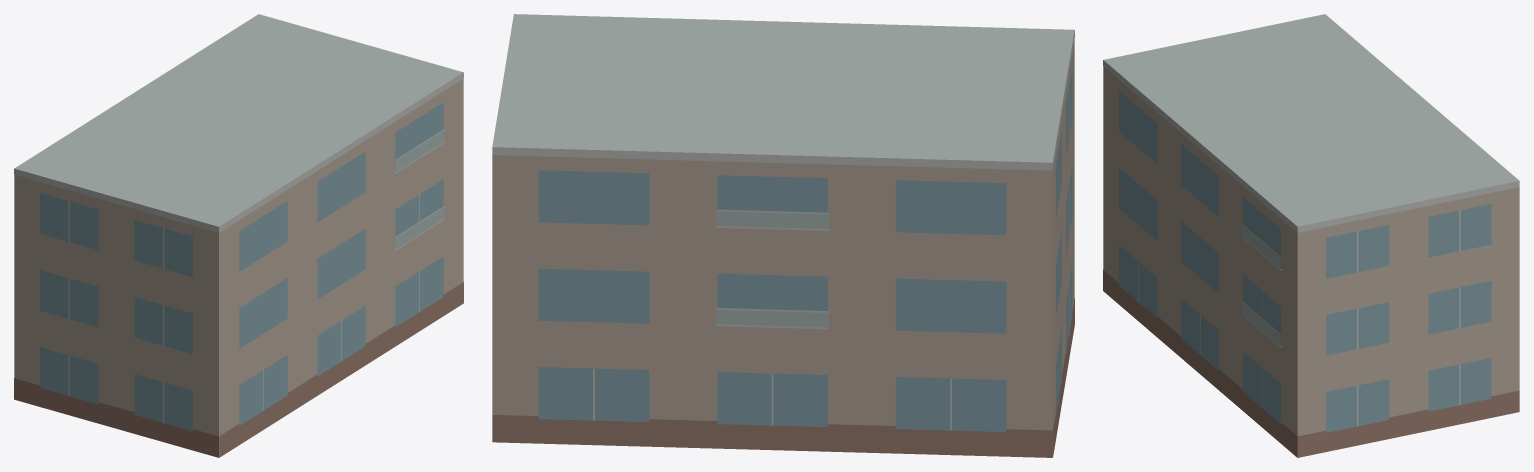
File: survey-upis-32700494.glb
3 renders of one model, left to right at view 1: azimuth 30°, elevation 25°; view 2: azimuth 150°, elevation 25°; view 3: azimuth 270°, elevation 25°, orthographic. The views are drawn at different scales.
Parts seen in each view (by area): view 1: survey-upis-32700494.tmp; view 2: survey-upis-32700494.tmp; view 3: survey-upis-32700494.tmp.
Boxes of the visible parts, bbox=[...] form: survey-upis-32700494.tmp: bbox=[14, 14, 463, 457]; survey-upis-32700494.tmp: bbox=[492, 14, 1074, 457]; survey-upis-32700494.tmp: bbox=[1103, 14, 1519, 457].
Bounding box in the file's own units: 18.07 × 9.15 × 14.95.
